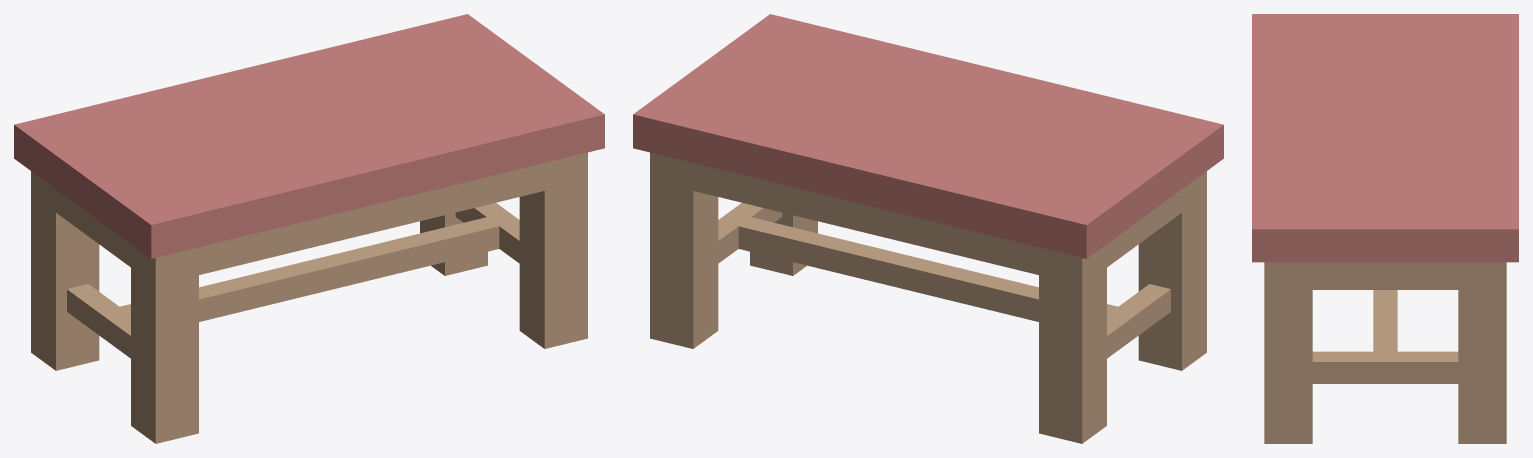
The model's file is CareBench.glb.
3 views of the same model, side by side, from view 1: azimuth 30°, elevation 25°; view 2: azimuth 150°, elevation 25°; view 3: azimuth 270°, elevation 25° (orthographic). The views are drawn at different scales.
Parts seen in each view (by area): view 1: CareBench; view 2: CareBench; view 3: CareBench.
Boxes of the visible parts, <box> form: CareBench: <box>14,14,604,443</box>; CareBench: <box>633,14,1223,443</box>; CareBench: <box>1252,14,1518,443</box>.
Bounding box in the file's own units: 6.5 × 3.1 × 3.4.
